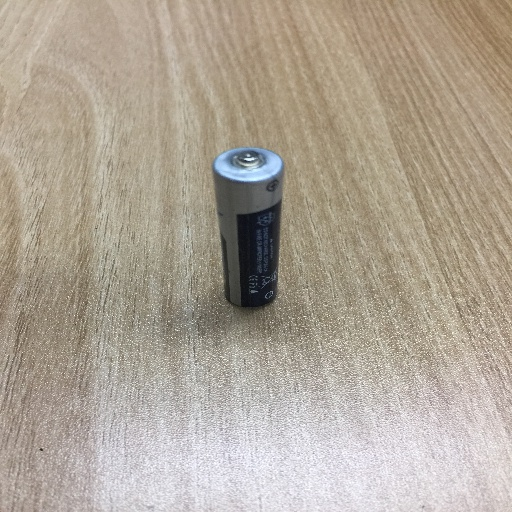Battery_0: (202, 138, 313, 321)
